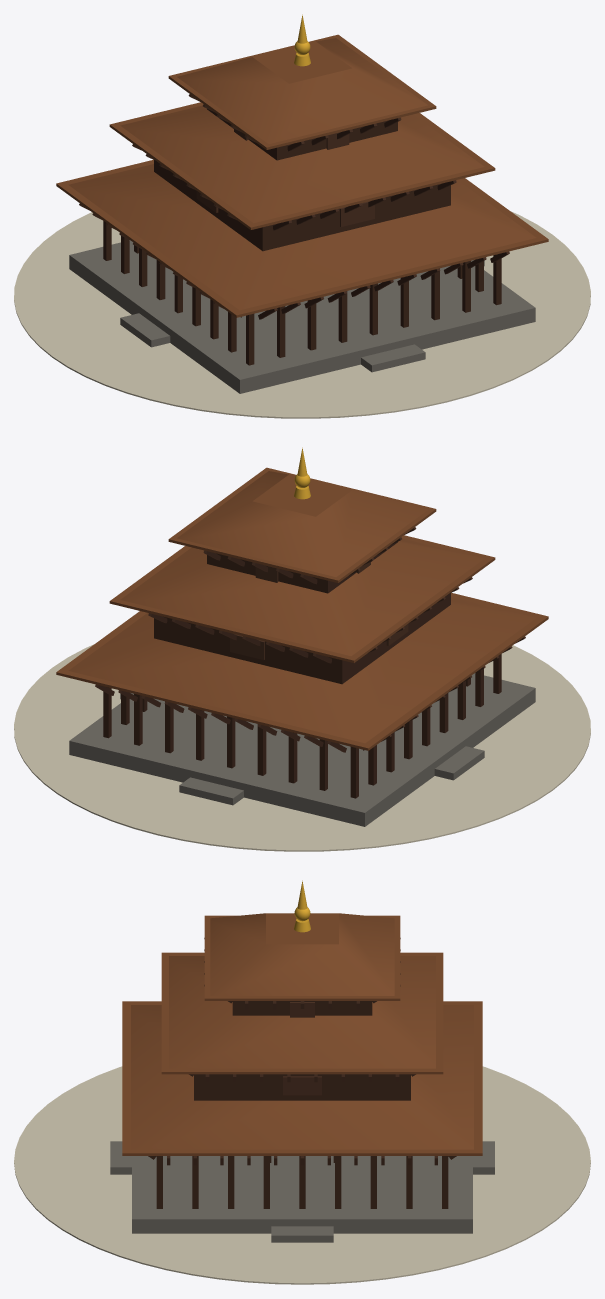
Rendered from kasthamandap.gltf.
3 renders of one model, top to bottom at view 1: azimuth 30°, elevation 25°; view 2: azimuth 150°, elevation 25°; view 3: azimuth 270°, elevation 25°, orthographic.
Parts seen in each view (by area): view 1: ground, object 91, object 1, object 130, object 157, object 92, object 93, object 131, object 158, object 132, object 2, object 5 (+1 smaller); view 2: ground, object 91, object 1, object 130, object 157, object 92, object 93, object 131, object 158, object 132, object 4, object 5 (+1 smaller); view 3: ground, object 91, object 1, object 130, object 157, object 92, object 93, object 131, object 158, object 132, object 3, object 95 (+2 smaller).
Part boxes in pixels (box(x1,y1,x2,y2)): ground: box(14, 211, 590, 418); object 91: box(68, 164, 536, 310); object 1: box(69, 240, 535, 393); object 130: box(120, 105, 484, 223); object 157: box(177, 38, 427, 143); object 92: box(56, 160, 548, 317); object 93: box(154, 160, 450, 251); object 131: box(109, 102, 495, 229); object 158: box(168, 34, 436, 149); object 132: box(207, 109, 397, 160); object 2: box(361, 344, 425, 372); object 5: box(120, 313, 170, 347); ground: box(14, 644, 590, 851); object 91: box(68, 597, 536, 743); object 1: box(69, 673, 535, 826); object 130: box(120, 538, 484, 656); object 157: box(177, 471, 427, 576); object 92: box(56, 593, 548, 750); object 93: box(154, 593, 450, 684); object 131: box(109, 535, 495, 662); object 158: box(168, 467, 436, 582); object 132: box(207, 542, 397, 593); object 4: box(179, 777, 243, 805); object 5: box(434, 746, 484, 780); ground: box(14, 1066, 590, 1284); object 91: box(131, 1005, 473, 1149); object 1: box(132, 1156, 472, 1233); object 130: box(169, 956, 435, 1068); object 157: box(210, 913, 394, 995); object 92: box(122, 1001, 482, 1155); object 93: box(194, 1074, 410, 1100); object 131: box(161, 952, 443, 1074); object 158: box(204, 915, 400, 1000); object 132: box(232, 1001, 372, 1015); object 3: box(271, 1226, 333, 1242); object 95: box(283, 1076, 321, 1095).
Bounding box in the file's own units: 37.2 × 20.1 × 37.2.
